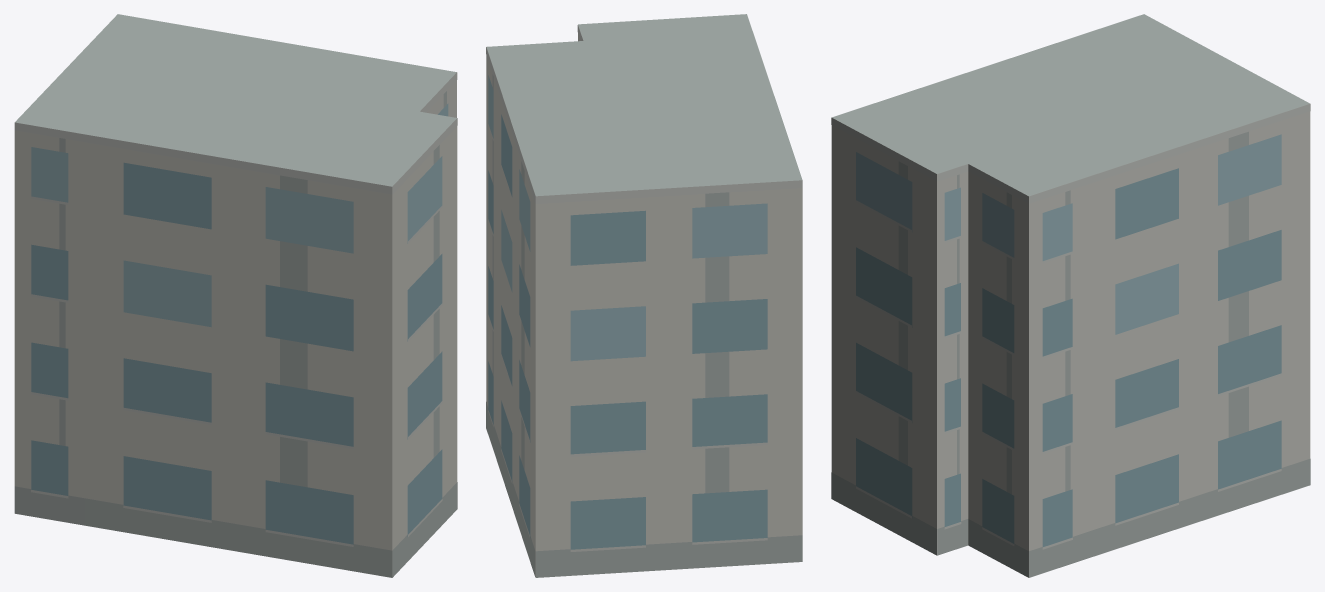
The model's file is residential-c4a19a94-fd02-4b2d-b32f-4a18f79ddfcb.glb.
The picture shows the model from 3 angles, left to right: view 1: azimuth 30°, elevation 25°; view 2: azimuth 150°, elevation 25°; view 3: azimuth 270°, elevation 25°; orthographic projection. The views are drawn at different scales.
Visible parts, largest first — view 1: residential-c4a19a94-fd02-4b2d-b32f-4a18f79ddfcb.tmp; view 2: residential-c4a19a94-fd02-4b2d-b32f-4a18f79ddfcb.tmp; view 3: residential-c4a19a94-fd02-4b2d-b32f-4a18f79ddfcb.tmp.
Boxes of the visible parts, box(x1,y1,x2,y2) form: residential-c4a19a94-fd02-4b2d-b32f-4a18f79ddfcb.tmp: box(14, 14, 457, 577); residential-c4a19a94-fd02-4b2d-b32f-4a18f79ddfcb.tmp: box(486, 14, 802, 577); residential-c4a19a94-fd02-4b2d-b32f-4a18f79ddfcb.tmp: box(831, 14, 1310, 577).
Size of the model in its own units: 12.52 by 12.2 by 13.89.
